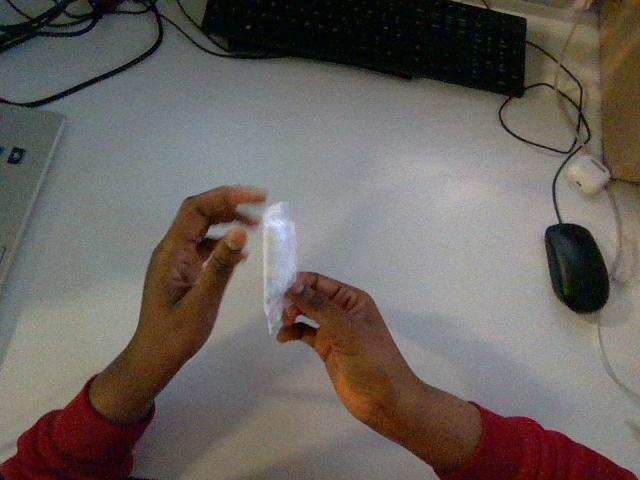gauze: (262, 202, 296, 333)
